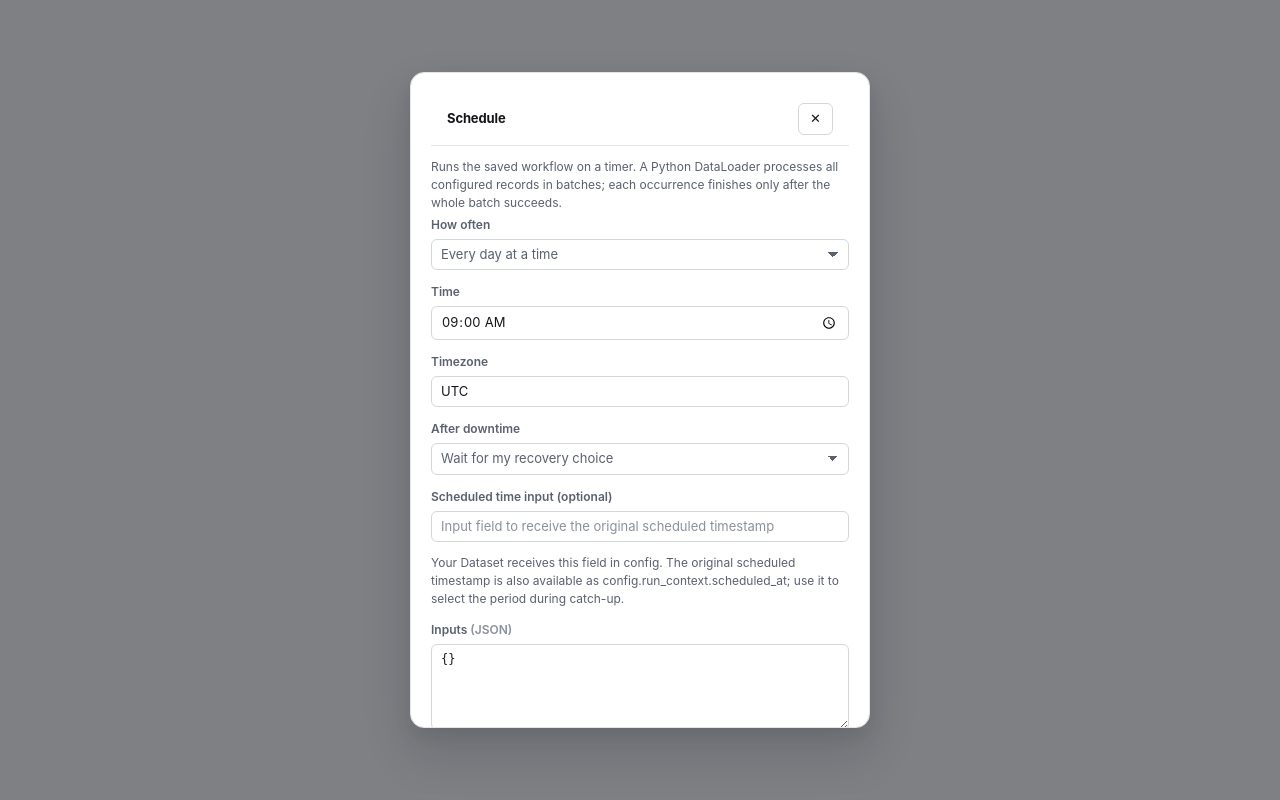
it: SchedulePanel › switches to an interval, with the floor spelled out
Select "Every N minutes" in the dropdown labelled "How often". click: (640, 254)
box: [431, 238, 849, 270]
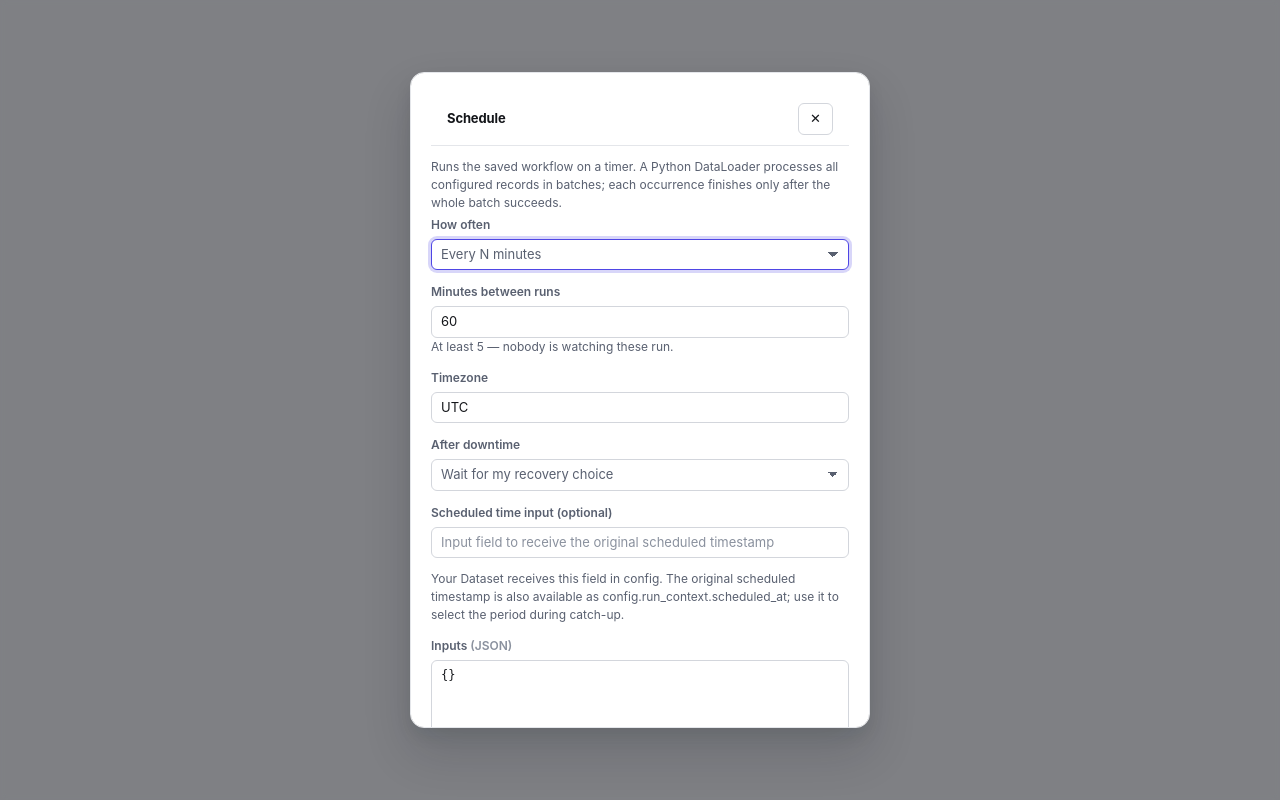
Now the text "At least 5 — nobody is watching these run." is shown, box [431, 338, 674, 354]
